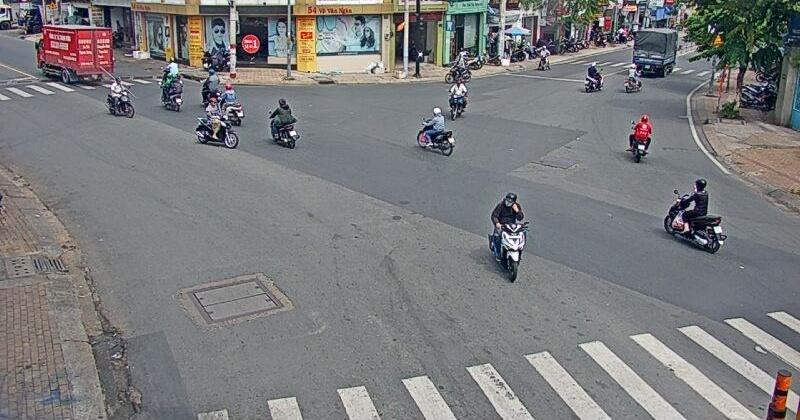xe may: (662, 177, 724, 252), (487, 192, 527, 281), (194, 96, 239, 149), (416, 107, 455, 154), (268, 97, 298, 149), (106, 75, 134, 118), (626, 114, 651, 162), (221, 81, 244, 126), (448, 79, 467, 120)
